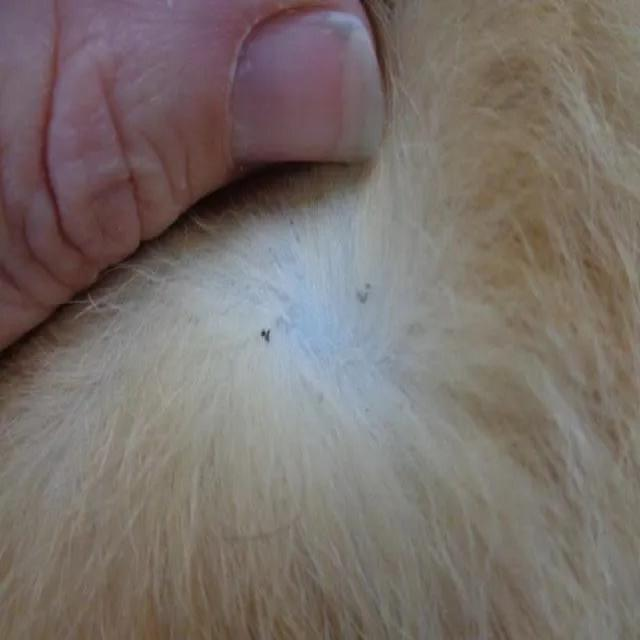di ung bo chet: (171, 234, 448, 439)
